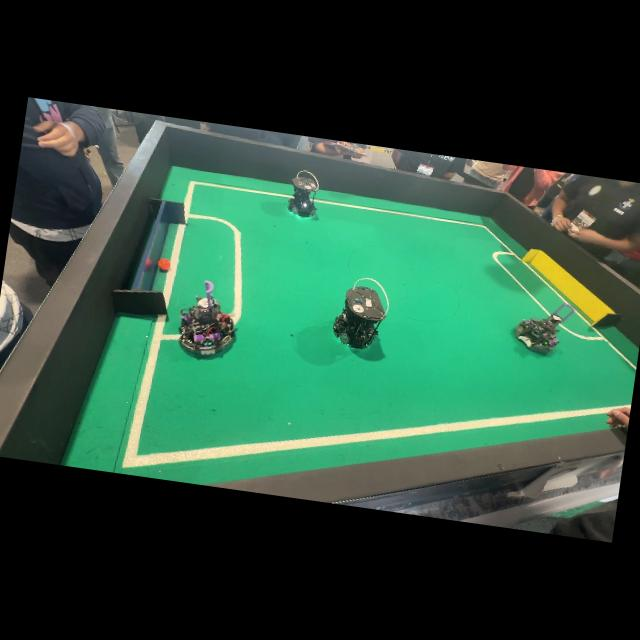ball: (157, 258, 170, 271)
goal: (112, 198, 187, 314), (522, 249, 620, 327)
robot: (333, 278, 389, 349), (180, 282, 234, 352), (515, 304, 574, 354), (288, 171, 318, 217)
